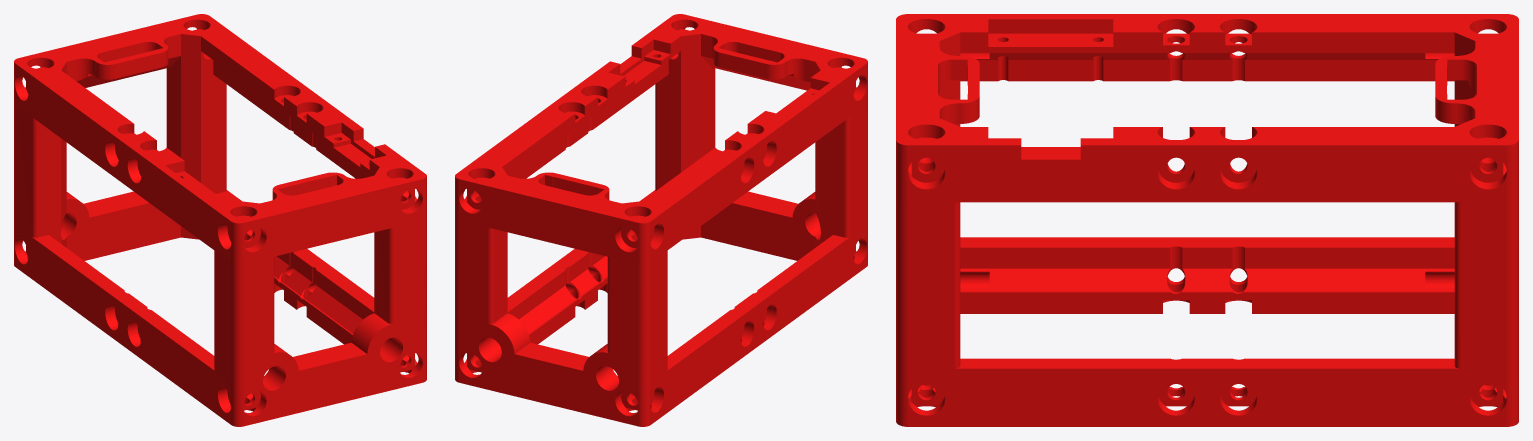
3 renders of one model, left to right at view 1: azimuth 30°, elevation 25°; view 2: azimuth 150°, elevation 25°; view 3: azimuth 270°, elevation 25°, orthographic. The views are drawn at different scales.
Parts seen in each view (by area): view 1: Base Cube 2x1; view 2: Base Cube 2x1; view 3: Base Cube 2x1.
Part boxes in pixels (box(x1,y1,x2,y2)): Base Cube 2x1: box(14, 14, 426, 426); Base Cube 2x1: box(455, 14, 867, 426); Base Cube 2x1: box(896, 14, 1518, 426).
Size of the model in its own units: 4.98 by 4.98 by 9.98.
